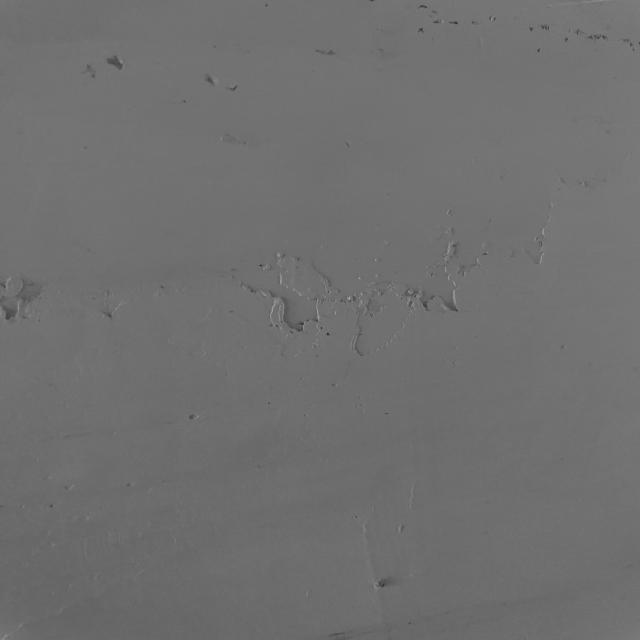rough and patchy surface: (225, 199, 566, 366), (310, 486, 429, 640), (400, 0, 640, 62), (74, 41, 276, 106), (0, 260, 184, 326), (304, 41, 336, 63)
